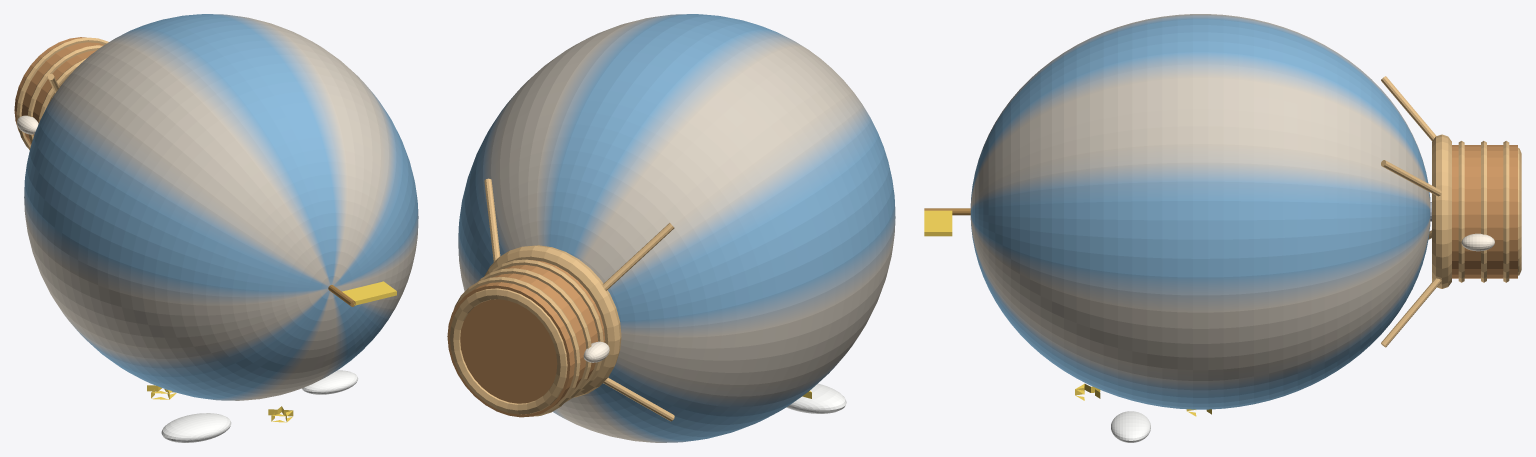
Rendered from cute_hot_air_balloon.glb.
3 renders of one model, left to right at view 1: azimuth 30°, elevation 25°; view 2: azimuth 150°, elevation 25°; view 3: azimuth 270°, elevation 25°, orthographic. The views are drawn at different scales.
Parts seen in each view (by area): view 1: world, Wicker basket, Cloud ornament, Wicker band_2, Cloud ornament_1, Flag, Wicker band_1; view 2: world, Wicker basket, Basket lower rim, Basket rim, Wicker band_2, Wicker band_1, Cloud ornament, Wicker band, Suspension rope_2, Suspension rope_3, Suspension rope; view 3: world, Wicker basket, Basket rim, Cloud ornament_1, Wicker band_2, Wicker band, Flag, Wicker band_1, Suspension rope_1, Suspension rope_2.
Part boxes in pixels (x1,y1,x2,y2): world: (24, 14, 418, 400); Wicker basket: (14, 37, 103, 144); Cloud ornament: (161, 413, 231, 442); Wicker band_2: (16, 37, 108, 149); Cloud ornament_1: (302, 370, 358, 394); Flag: (342, 281, 396, 305); Wicker band_1: (28, 45, 102, 143); world: (458, 14, 895, 442); Wicker basket: (447, 260, 605, 417); Basket lower rim: (450, 288, 567, 414); Basket rim: (484, 245, 621, 397); Wicker band_2: (453, 277, 580, 416); Wicker band_1: (478, 268, 591, 402); Cloud ornament: (786, 383, 846, 413); Wicker band: (490, 259, 603, 393); Suspension rope_2: (602, 223, 674, 290); Suspension rope_3: (484, 178, 500, 261); Suspension rope: (603, 377, 674, 421); world: (970, 14, 1430, 409); Wicker basket: (1452, 145, 1517, 278); Basket rim: (1432, 134, 1451, 288); Cloud ornament_1: (1111, 411, 1150, 442); Wicker band_2: (1503, 141, 1509, 282); Wicker band: (1458, 141, 1464, 282); Flag: (924, 210, 952, 236); Wicker band_1: (1481, 141, 1486, 282); Suspension rope_1: (1381, 278, 1441, 347); Suspension rope_2: (1381, 76, 1436, 140).
Bounding box in the file's own units: 2.84 × 2.9 × 4.28.
